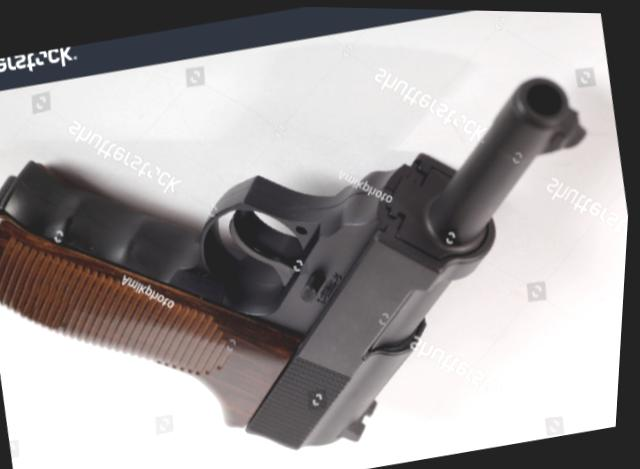pistol: (0, 51, 638, 469)
